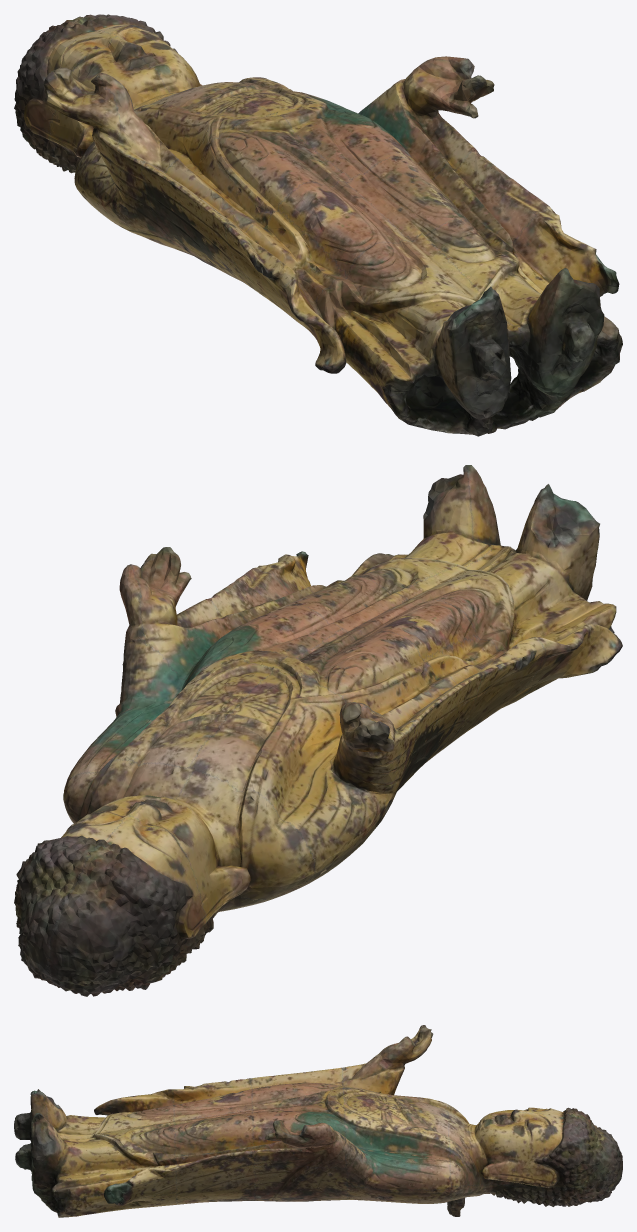
File: nmk-36549740.glb
3 renders of one model, top to bottom at view 1: azimuth 30°, elevation 25°; view 2: azimuth 150°, elevation 25°; view 3: azimuth 270°, elevation 25°, orthographic. The views are drawn at different scales.
Parts seen in each view (by area): view 1: lkh000019-000-30000_step3; view 2: lkh000019-000-30000_step3; view 3: lkh000019-000-30000_step3.
Boxes of the visible parts, x1,y1,x2,y2 form: lkh000019-000-30000_step3: (14,14,622,436); lkh000019-000-30000_step3: (14,465,622,996); lkh000019-000-30000_step3: (14,1025,622,1217).
Bounding box in the file's own units: 0.7493 × 0.4584 × 1.8.
1 material, 1 textured.
